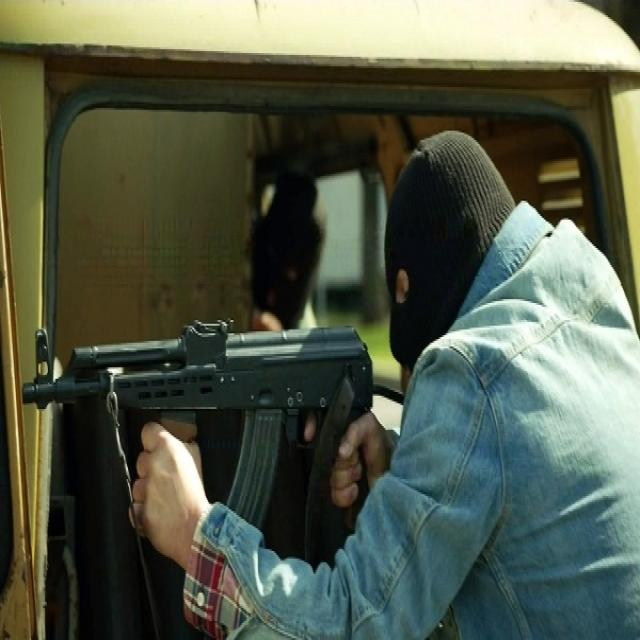rifle: (22, 325, 375, 556)
